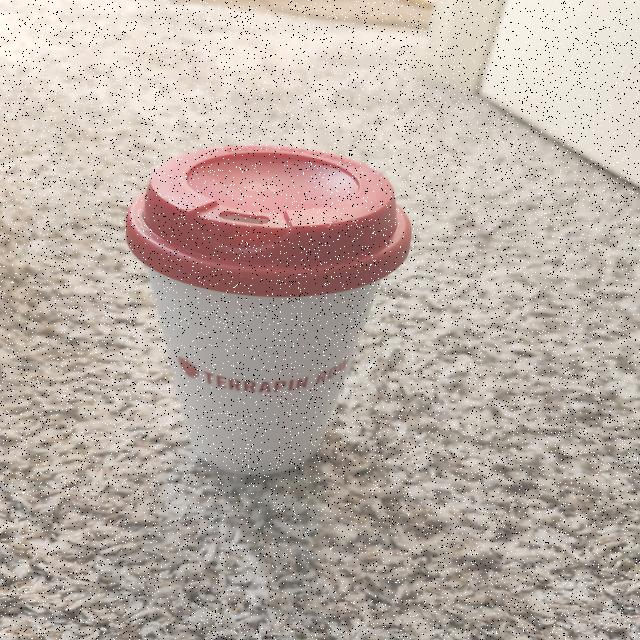mug: (115, 144, 395, 472)
